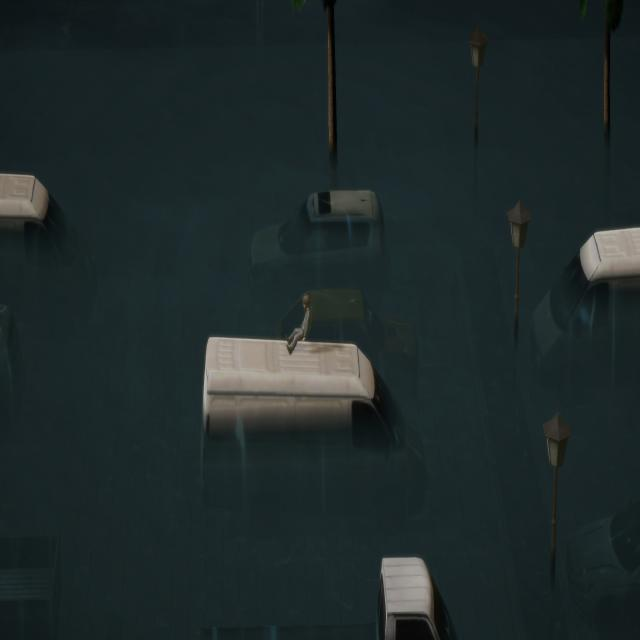Human: (280, 291, 317, 374)
